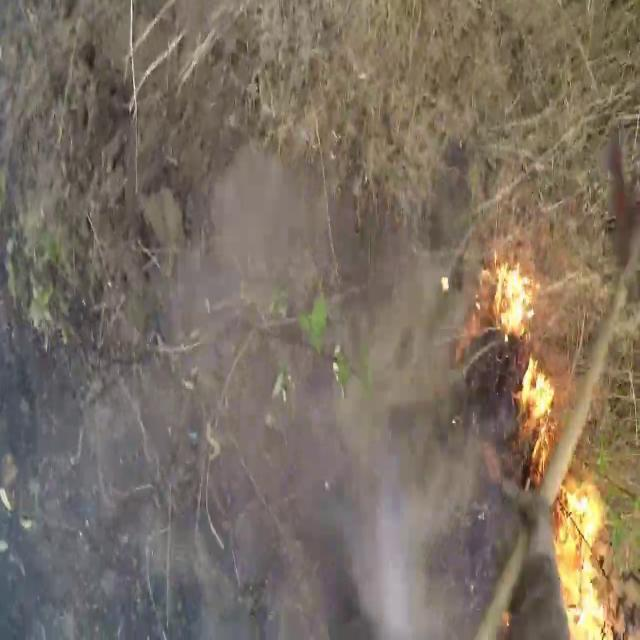Fire: (480, 247, 562, 469), (544, 477, 624, 637)
Smoke: (152, 98, 488, 634)
